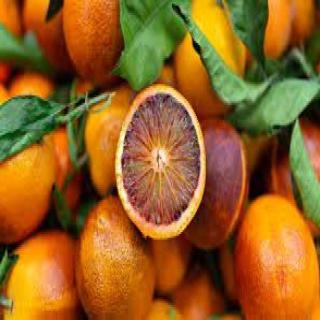orange: (110, 80, 211, 249), (81, 180, 158, 320)
